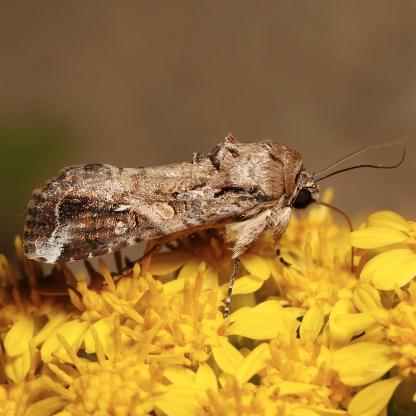Fall Armyworm Moth: (18, 127, 410, 324)
